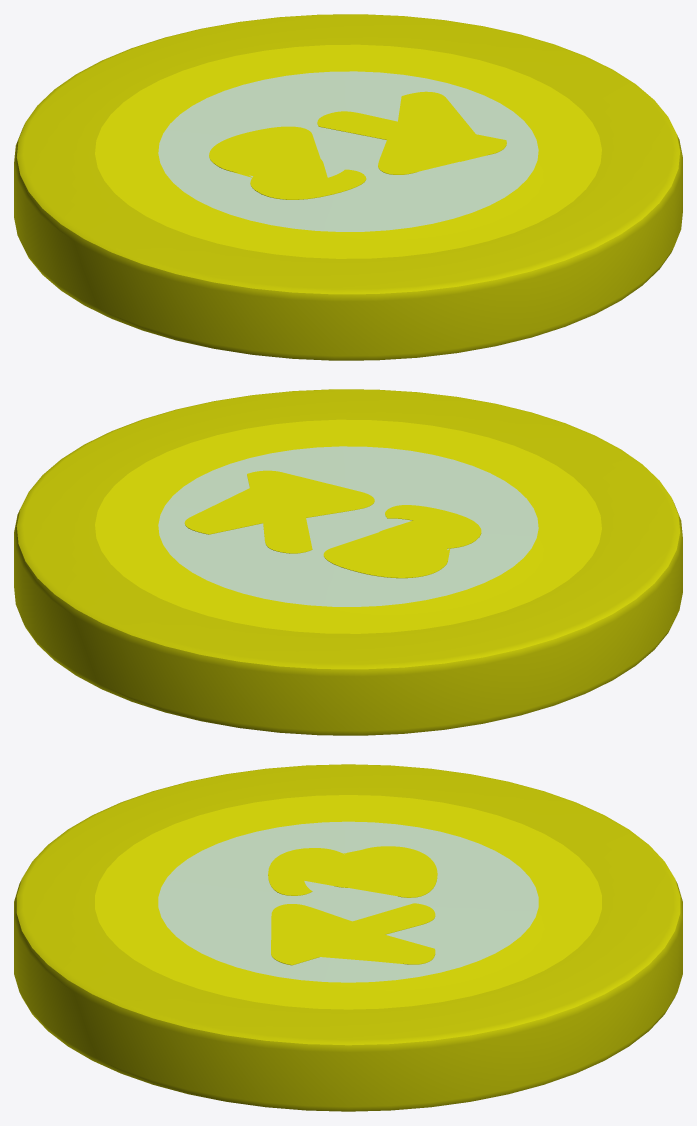
The picture shows the model from 3 angles, top to bottom: view 1: azimuth 30°, elevation 25°; view 2: azimuth 150°, elevation 25°; view 3: azimuth 270°, elevation 25°; orthographic projection.
Visible parts, largest first — view 1: X3; view 2: X3; view 3: X3.
Boxes of the visible parts, <box> form: X3: <box>14,14,682,360</box>; X3: <box>14,389,682,735</box>; X3: <box>14,764,682,1111</box>.
Bounding box in the file's own units: 321 × 38.27 × 320.
